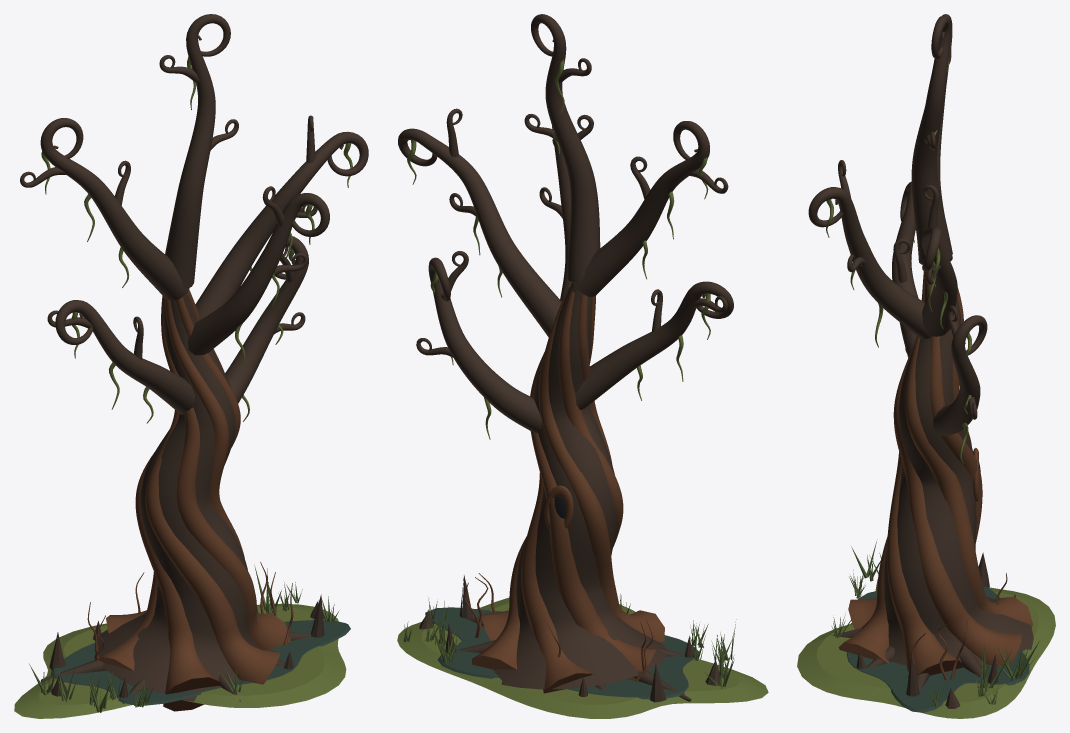
Rendered from BAYOU_DEAD_TREE.glb.
3 views of the same model, side by side, from view 1: azimuth 30°, elevation 25°; view 2: azimuth 150°, elevation 25°; view 3: azimuth 270°, elevation 25° (orthographic).
Visible parts, largest first — view 1: Branches, Trunk_Ridges, Trunk, Ground, Water, Grass, SpanishMoss, CypressKnees, Roots, Brambles; view 2: Branches, Trunk_Ridges, Trunk, Ground, Water, Grass, SpanishMoss, CypressKnees, Roots, Brambles, Trunk_HollowLip; view 3: Trunk_Ridges, Branches, Trunk, Ground, Water, Grass, CypressKnees, SpanishMoss, Roots, Brambles.
Boxes of the visible parts, x1,y1,x2,y2 form: Branches: [20, 14, 368, 414]; Trunk_Ridges: [98, 290, 290, 711]; Trunk: [94, 289, 259, 701]; Ground: [14, 603, 346, 718]; Water: [50, 612, 350, 705]; Grass: [29, 565, 339, 712]; SpanishMoss: [41, 56, 352, 423]; CypressKnees: [49, 594, 324, 698]; Roots: [40, 632, 311, 703]; Brambles: [87, 562, 293, 660]; Branches: [398, 14, 733, 432]; Trunk_Ridges: [472, 285, 664, 693]; Trunk: [493, 282, 666, 689]; Ground: [397, 597, 768, 718]; Water: [425, 607, 698, 699]; Grass: [403, 594, 736, 688]; SpanishMoss: [407, 59, 710, 439]; CypressKnees: [419, 575, 720, 702]; Roots: [459, 617, 691, 701]; Brambles: [464, 573, 653, 681]; Trunk_HollowLip: [544, 485, 573, 530]; Trunk_Ridges: [838, 271, 1032, 675]; Branches: [808, 14, 987, 436]; Trunk: [851, 271, 1033, 667]; Ground: [797, 579, 1055, 718]; Water: [846, 586, 1029, 712]; Grass: [831, 539, 1039, 707]; CypressKnees: [856, 552, 1015, 708]; SpanishMoss: [826, 49, 971, 464]; Roots: [823, 627, 987, 690]; Brambles: [908, 573, 1007, 680].
Size of the model in its own units: 14.48 by 25.61 by 9.1.
